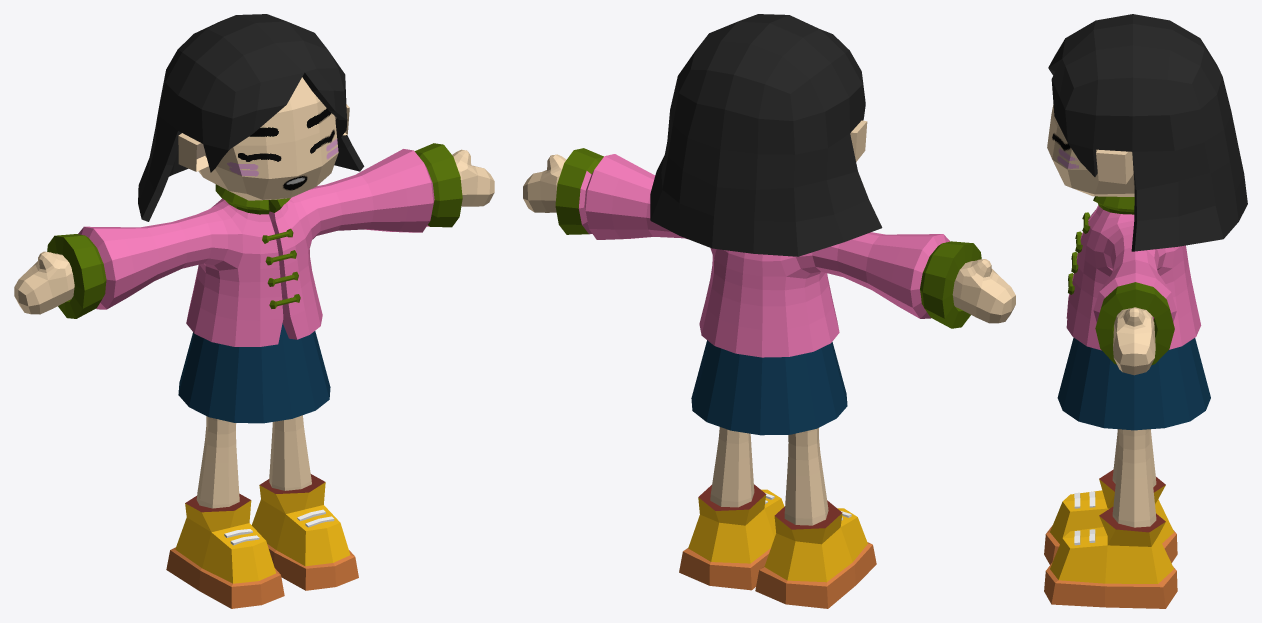
Rendered from tiramysu-ramy.glb.
3 views of the same model, side by side, from view 1: azimuth 30°, elevation 25°; view 2: azimuth 150°, elevation 25°; view 3: azimuth 270°, elevation 25° (orthographic). The views are drawn at different scales.
Parts seen in each view (by area): view 1: Coat, Hair, Shoes, Skirt, Head, Limbs; view 2: Hair, Coat, Shoes, Skirt, Limbs; view 3: Hair, Coat, Shoes, Skirt, Limbs, Head, Shoelaces.
Boxes of the visible parts, left/top/right/bottom form: Coat: left=47, top=143, right=462, bottom=346; Hair: left=138, top=14, right=364, bottom=221; Shoes: left=166, top=474, right=358, bottom=608; Skirt: left=178, top=323, right=330, bottom=423; Head: left=178, top=77, right=349, bottom=200; Limbs: left=14, top=149, right=494, bottom=508; Hair: left=650, top=14, right=882, bottom=256; Coat: left=555, top=148, right=981, bottom=357; Shoes: left=679, top=484, right=876, bottom=608; Skirt: left=691, top=340, right=847, bottom=435; Limbs: left=523, top=154, right=1015, bottom=525; Hair: left=1048, top=14, right=1247, bottom=251; Coat: left=1066, top=196, right=1201, bottom=365; Shoes: left=1044, top=469, right=1177, bottom=608; Skirt: left=1057, top=337, right=1210, bottom=430; Limbs: left=1112, top=307, right=1156, bottom=527; Head: left=1047, top=104, right=1134, bottom=196; Shoelaces: left=1074, top=491, right=1095, bottom=545.
Size of the model in its own units: 1.38 by 1.51 by 0.5078.
Materials: 2 (2 with a texture image).
